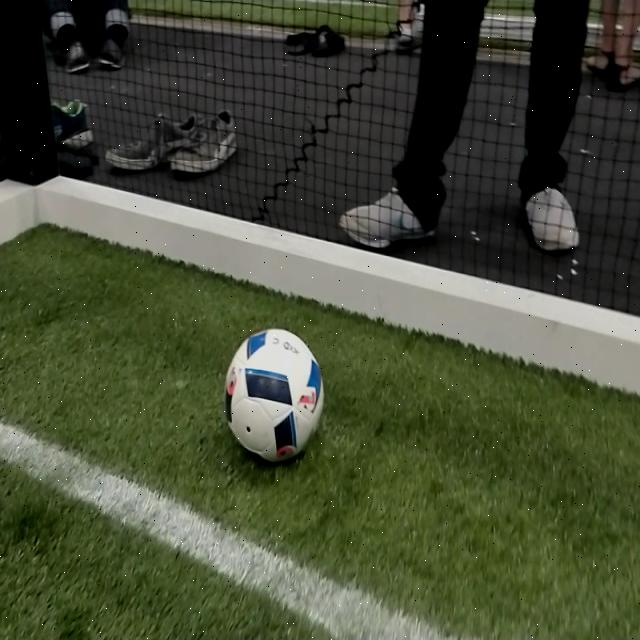ball: (224, 327, 325, 464)
